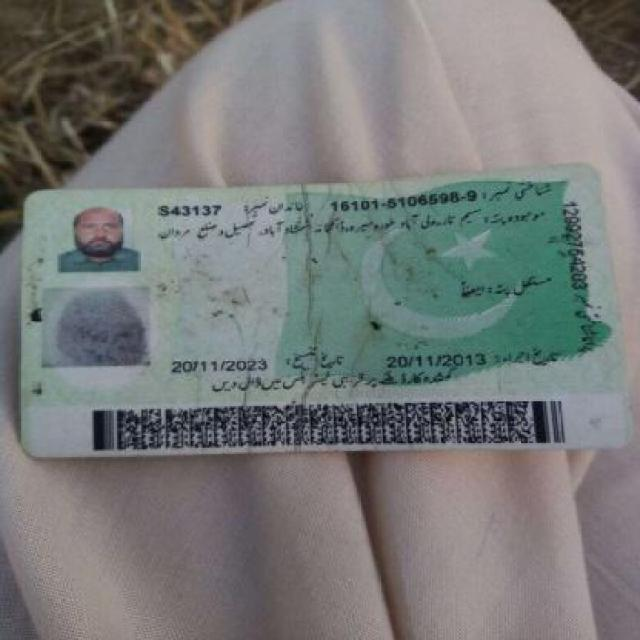Back: (11, 174, 626, 454)
